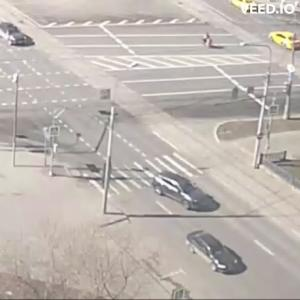car: (187, 232, 250, 277), (154, 169, 212, 214), (1, 18, 29, 47), (267, 31, 300, 53)
